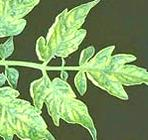Tomato leaf mosaic virus: (29, 72, 99, 140), (34, 0, 103, 61), (74, 44, 148, 97), (0, 76, 58, 140), (0, 0, 46, 49)
